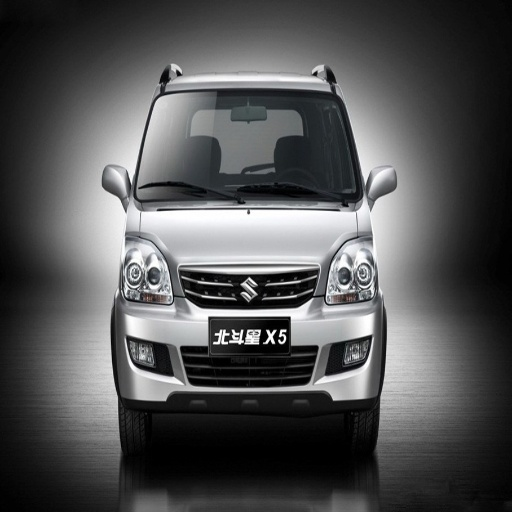front_bumper: (115, 258, 383, 415)
front_right_light: (122, 235, 175, 305)
hood: (140, 201, 357, 265)
